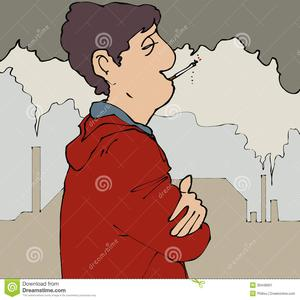cigarette: (168, 55, 204, 82)
